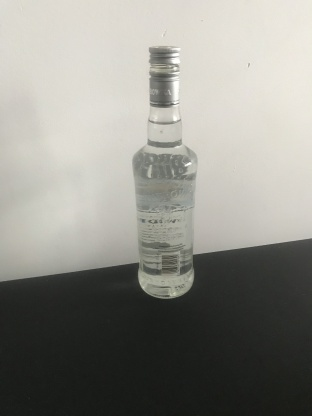nakretka: (147, 46, 181, 108)
